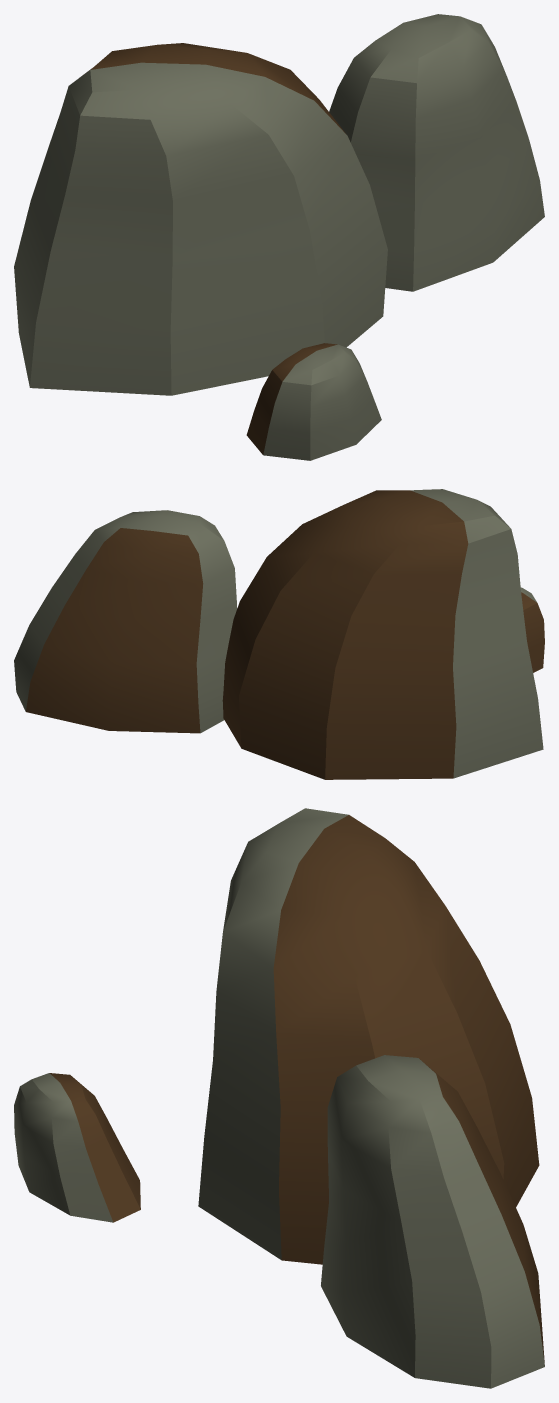
The model's file is rocks_small.fbx.
3 renders of one model, top to bottom at view 1: azimuth 30°, elevation 25°; view 2: azimuth 150°, elevation 25°; view 3: azimuth 270°, elevation 25°, orthographic. The views are drawn at different scales.
Visible parts, largest first — view 1: rocks_small; view 2: rocks_small; view 3: rocks_small.
Boxes of the visible parts, x1=… form: rocks_small: x1=14, y1=14, x2=544, y2=460; rocks_small: x1=14, y1=489, x2=544, y2=779; rocks_small: x1=14, y1=808, x2=544, y2=1388.
Size of the model in its own units: 59.52 by 29.27 by 43.61.
